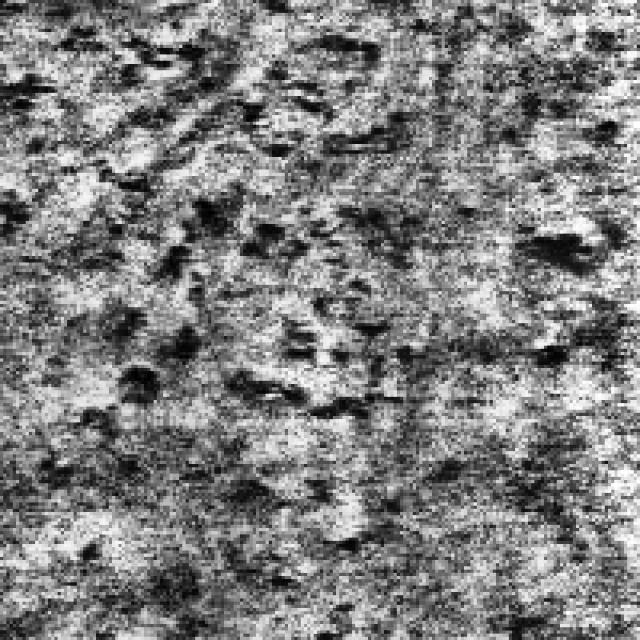Crazing: (0, 16, 387, 397)
